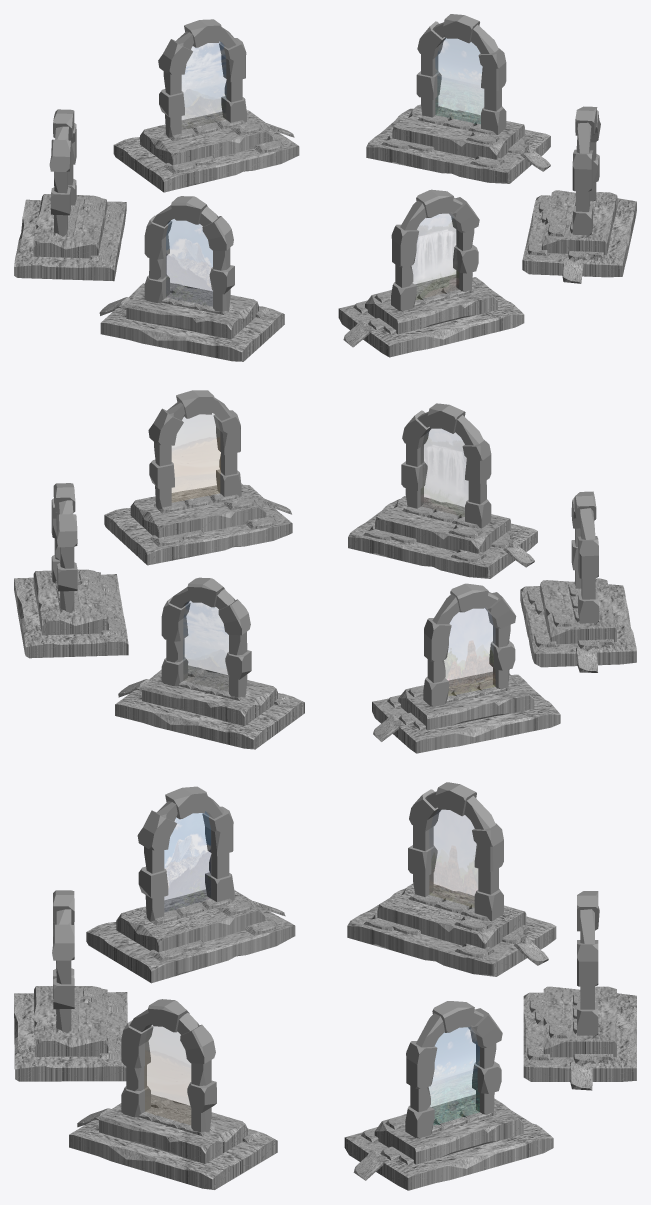
Rendered from nnnnn.glb.
3 renders of one model, top to bottom at view 1: azimuth 30°, elevation 25°; view 2: azimuth 150°, elevation 25°; view 3: azimuth 270°, elevation 25°, orthographic. The views are drawn at different scales.
Visible parts, largest first — view 1: Plane.025, Plane.004, Plane.007, Plane.022, Plane.034, Plane.027, Plane.010, Plane.028, Plane.001, Plane.013, Plane.021, Plane.002 (+22 smaller); view 2: Plane.007, Plane.034, Plane.013, Plane.022, Plane.004, Plane.010, Plane.009, Plane.016, Plane.032, Plane.001, Plane.031, Plane.033 (+22 smaller); view 3: Plane.013, Plane.022, Plane.025, Plane.034, Plane.004, Plane.028, Plane.016, Plane.015, Plane.019, Plane.031, Plane.020, Plane.027 (+22 smaller).
Part boxes in pixels (bbox=[...]): Plane.025: bbox=[100, 283, 284, 361]; Plane.004: bbox=[338, 277, 524, 357]; Plane.007: bbox=[113, 110, 299, 192]; Plane.022: bbox=[366, 108, 550, 183]; Plane.034: bbox=[14, 199, 126, 281]; Plane.027: bbox=[126, 285, 258, 339]; Plane.010: bbox=[158, 19, 246, 122]; Plane.028: bbox=[144, 196, 234, 303]; Plane.001: bbox=[391, 189, 479, 311]; Plane.013: bbox=[522, 195, 636, 277]; Plane.021: bbox=[435, 38, 483, 123]; Plane.002: bbox=[365, 274, 497, 334]; Plane.007: bbox=[115, 669, 304, 749]; Plane.034: bbox=[372, 674, 560, 753]; Plane.013: bbox=[104, 485, 292, 565]; Plane.022: bbox=[14, 574, 128, 658]; Plane.004: bbox=[348, 499, 537, 578]; Plane.010: bbox=[161, 577, 251, 686]; Plane.009: bbox=[142, 669, 277, 725]; Plane.016: bbox=[148, 390, 241, 496]; Plane.032: bbox=[398, 671, 534, 730]; Plane.001: bbox=[401, 403, 491, 528]; Plane.031: bbox=[423, 583, 516, 706]; Plane.033: bbox=[444, 608, 495, 695]; Plane.013: bbox=[69, 1103, 277, 1189]; Plane.022: bbox=[344, 1098, 553, 1190]; Plane.025: bbox=[86, 907, 295, 983]; Plane.034: bbox=[347, 888, 556, 976]; Plane.004: bbox=[14, 992, 127, 1081]; Plane.028: bbox=[137, 786, 234, 902]; Plane.016: bbox=[121, 999, 216, 1117]; Plane.015: bbox=[99, 1099, 247, 1163]; Plane.019: bbox=[405, 1001, 502, 1138]; Plane.031: bbox=[408, 782, 503, 921]; Plane.020: bbox=[374, 1094, 523, 1164]; Plane.027: bbox=[116, 889, 265, 952].
Size of the model in its own units: 21.54 by 5.11 by 19.3.
90 materials, 90 textured.
